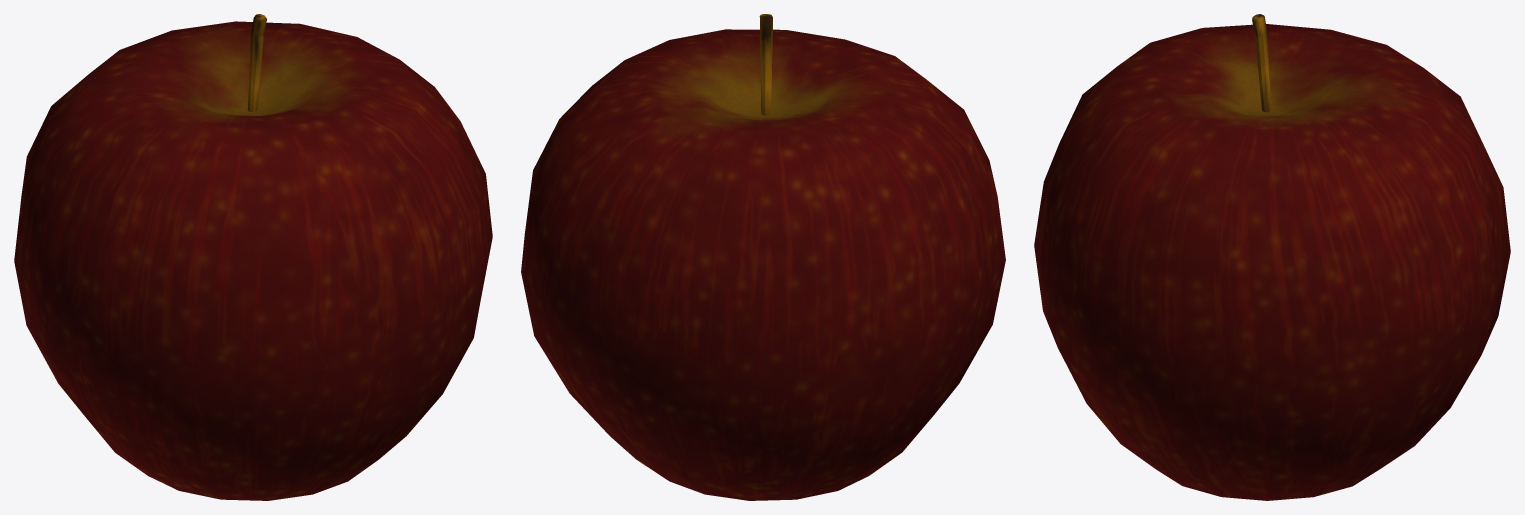
3 views of the same model, side by side, from view 1: azimuth 30°, elevation 25°; view 2: azimuth 150°, elevation 25°; view 3: azimuth 270°, elevation 25° (orthographic).
Parts seen in each view (by area): view 1: Apple Cut Low.001; view 2: Apple Cut Low.001; view 3: Apple Cut Low.001.
Boxes of the visible parts, x1,y1,x2,y2 form: Apple Cut Low.001: (14,14,492,500); Apple Cut Low.001: (521,14,1005,500); Apple Cut Low.001: (1034,14,1510,500).
Bounding box in the file's own units: 1.49 × 1.54 × 1.48.
1 material, 1 textured.
